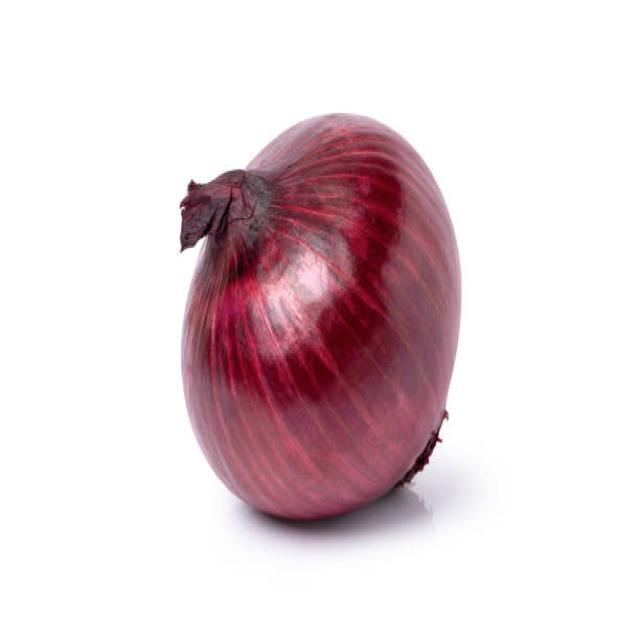onion: (171, 110, 471, 526)
